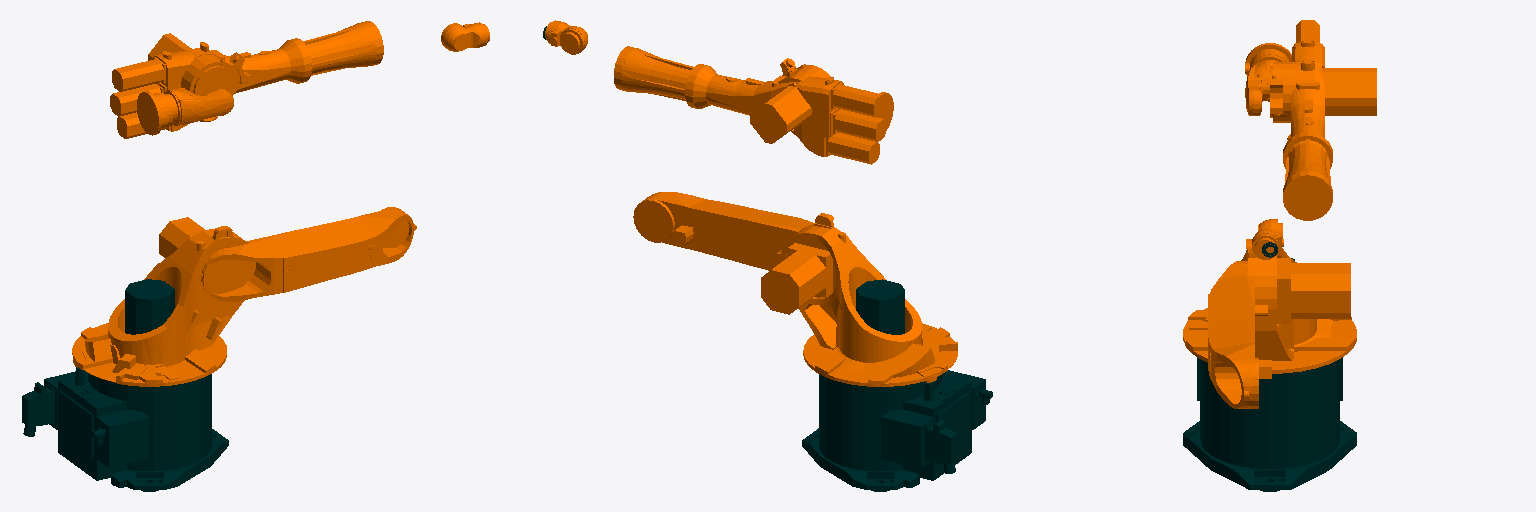
URDF robot description (kr16_l6):
<?xml version="1.0"?>
<robot name="kr16_l6">
  <link name="base_link">
    <inertial>
      <origin xyz="-0.0370802124265489 0.00141063646634188 0.216636327236744" rpy="0 0 0" />
      <mass value="74.2934066480815" />
      <inertia ixx="1.7670441021068" ixy="0.0322864027833848" ixz="-0.0124316820163097" iyy="2.14812775689737" iyz="-0.000118351466869729" izz="2.27331694976714" />
    </inertial>
    <visual>
      <origin xyz="0 0 0" rpy="0 0 0" />
      <geometry><mesh filename="../meshes/base_link.STL" /></geometry>
      <material name=""><color rgba="0 0.2 0.2 1" /></material>
    </visual>
    <collision>
      <origin xyz="0 0 0" rpy="0 0 0" />
      <geometry><mesh filename="../meshes/base_link.STL" /></geometry>
    </collision>
  </link>
  <link name="link_1">
    <inertial>
      <origin xyz="0.142305497750456 0.0226050566515005 0.567894773840482" rpy="0 0 0" />
      <mass value="21.6539975606358" />
      <inertia ixx="0.409776844897082" ixy="0.0305560931237029" ixz="-0.224923596404671" iyy="0.68302608239356" iyz="0.0194477729138504" izz="0.558909205843078" />
    </inertial>
    <visual>
      <origin xyz="0 0 0" rpy="0 0 0" />
      <geometry><mesh filename="../meshes/link_1.STL" /></geometry>
      <material name=""><color rgba="1 0.498039215686275 0 1" /></material>
    </visual>
    <collision>
      <origin xyz="0 0 0" rpy="0 0 0" />
      <geometry><mesh filename="../meshes/link_1.STL" /></geometry>
    </collision>
  </link>
  <joint name="joint_1" type="revolute">
    <origin xyz="0 0 0" rpy="0 0 0" />
    <parent link="base_link" />
    <child link="link_1" />
    <axis xyz="0 0 -1" />
    <limit lower="-3.228859" upper="3.228859" effort="300" velocity="3" />
    <dynamics damping="5.0" friction="5.0" />
  </joint>
  <link name="link_2">
    <inertial>
      <origin xyz="0 0 0.083" rpy="0 0 0" />
      <mass value="13.5187549094038" />
      <inertia ixx="0.595735874292518" ixy="-0.00033959208906011" ixz="0.000241341250717348" iyy="0.0592222368371793" iyz="-0.0264042602214632" izz="0.593909797905065" />
    </inertial>
    <visual>
      <origin xyz="0 0 0" rpy="0 0 -1.5707963267949" />
      <geometry><mesh filename="../meshes/link_2.STL" /></geometry>
      <material name=""><color rgba="1 0.498039215686275 0 1" /></material>
    </visual>
    <collision>
      <origin xyz="0 0 0.083" rpy="0 0 0" />
      <geometry><mesh filename="../meshes/link_2.STL" /></geometry>
    </collision>
  </link>
  <joint name="joint_2" type="revolute">
    <origin xyz="0.26 0 0.675" rpy="1.5707963267949 0 0" />
    <parent link="link_1" />
    <child link="link_2" />
    <axis xyz="0 0 -1" />
    <limit lower="-1.1344" upper="2.18166" effort="300" velocity="3" />
    <dynamics damping="5.0" friction="5.0" />
  </joint>
  <link name="link_3">
    <inertial>
      <origin xyz="0 0 0.083" rpy="0 0 0" />
      <mass value="20.1226848736683" />
      <inertia ixx="1.08899760672633" ixy="-0.0306219787461247" ixz="-0.00467363324796757" iyy="0.0760528892752689" iyz="-0.0339439600119559" izz="1.09970632098879" />
    </inertial>
    <visual>
      <origin xyz="0 0 0" rpy="0 0 0" />
      <geometry><mesh filename="../meshes/link_3.STL" /></geometry>
      <material name=""><color rgba="1 0.498039215686275 0 1" /></material>
    </visual>
    <collision>
      <origin xyz="0 0 0.117" rpy="0 0 0" />
      <geometry><mesh filename="../meshes/link_3.STL" /></geometry>
    </collision>
  </link>
  <joint name="joint_3" type="revolute">
    <origin xyz="0 0.68 0" rpy="0 0 1.5707963267949" />
    <parent link="link_2" />
    <child link="link_3" />
    <axis xyz="0 0 1" />
    <limit lower="-3.8397" upper="1.117" effort="300" velocity="3" />
    <dynamics damping="2.0" friction="2.0" />
  </joint>
  <link name="link_4">
    <inertial>
      <origin xyz="0 0 0" rpy="0 0 0" />
      <mass value="2.87297951118877" />
      <inertia ixx="0.0235654746306512" ixy="-1.48066908871915E-06" ixz="-6.74729709833719E-06" iyy="0.0215035781328367" iyz="-0.00134422869806709" izz="0.00666767944518143" />
    </inertial>
    <visual>
      <origin xyz="0 0 0" rpy="0 0 0" />
      <geometry><mesh filename="../meshes/link_4.STL" /></geometry>
      <material name=""><color rgba="1 0.498039215686275 0 1" /></material>
    </visual>
    <collision>
      <origin xyz="0 0 0.970" rpy="0 0 0" />
      <geometry><mesh filename="../meshes/link_4.STL" /></geometry>
    </collision>
  </link>
  <joint name="joint_4" type="revolute">
    <origin xyz="-0.035 0 0" rpy="1.5707963267949 0 0" />
    <parent link="link_3" />
    <child link="link_4" />
    <axis xyz="0 0 -1" />
    <limit lower="-6.1086" upper="6.1086" effort="300" velocity="3" />
    <dynamics damping="1.0" friction="1.0" />
  </joint>
  <link name="link_5">
    <inertial>
      <origin xyz="0 0 0" rpy="0 0 0" />
      <mass value="0.808099153279393" />
      <inertia ixx="0.00178549408930983" ixy="1.15601664319987E-11" ixz="-1.64520814420352E-11" iyy="0.000760250254168187" iyz="0.000203502588831681" izz="0.00176861762533441" />
    </inertial>
    <visual>
      <origin xyz="0 0 0" rpy="0 0 0" />
      <geometry><mesh filename="../meshes/link_5.STL" /></geometry>
      <material name=""><color rgba="1 0.498039215686275 0 1" /></material>
    </visual>
    <collision>
      <origin xyz="0 0 -0.014" rpy="0 0 0" />
      <geometry><mesh filename="../meshes/link_5.STL" /></geometry>
    </collision>
  </link>
  <joint name="joint_5" type="revolute">
    <origin xyz="0 0 0.970" rpy="-1.5707963267949 0 0" />
    <parent link="link_4" />
    <child link="link_5" />
    <axis xyz="0 0 -1" />
    <limit lower="-2.268" upper="2.268" effort="300" velocity="3" />
    <dynamics damping="0.5" friction="0.5" />
  </joint>
  <link name="link_6">
    <inertial>
      <origin xyz="0 0.014 0" rpy="1.57079632679 0 0" />
      <mass value="0.008033452510818" />
      <inertia ixx="1.65232786199386E-06" ixy="2.91558290222439E-23" ixz="-9.6668283756098E-24" iyy="1.51208716593763E-06" iyz="1.88515043366526E-27" izz="3.11335648098606E-06" />
    </inertial>
    <visual>
      <origin xyz="0 0 0" rpy="0 0 0" />
      <geometry><mesh filename="../meshes/link_6.STL" /></geometry>
      <material name=""><color rgba="0 0.2 0.2 1" /></material>
    </visual>
    <collision>
      <origin xyz="0 0 0" rpy="0 0 0" />
      <geometry><mesh filename="../meshes/link_6.STL" /></geometry>
    </collision>
  </link>
  <joint name="joint_6" type="revolute">
    <origin xyz="0 0 0" rpy="1.5707963267949 0 0" />
    <parent link="link_5" />
    <child link="link_6" />
    <axis xyz="0 0 -1" />
    <limit lower="-6.1086" upper="6.1086" effort="300" velocity="3" />
    <dynamics damping="0.1" friction="0.1" />
  </joint>
</robot>

--- Facts derived from the render (not from the file) ---
The picture shows the robot from 3 angles, left to right: view 1: azimuth 30°, elevation 25°; view 2: azimuth 150°, elevation 25°; view 3: azimuth 270°, elevation 25°; orthographic projection.
Robot: kr16_l6 — 7 links, 6 joints (6 revolute); root link base_link; default pose: every joint at zero.
Links seen in each view (by area): view 1: base_link, link_1, link_3, link_2, link_4, link_5; view 2: base_link, link_1, link_3, link_2, link_5; view 3: base_link, link_1, link_3, link_2, link_4, link_5.
Boxes of the visible links, bbox=[...] form: base_link: bbox=[22, 279, 228, 491]; link_1: bbox=[72, 217, 255, 386]; link_3: bbox=[110, 21, 383, 138]; link_2: bbox=[201, 207, 416, 301]; link_4: bbox=[137, 88, 233, 135]; link_5: bbox=[441, 22, 489, 51]; base_link: bbox=[802, 279, 992, 491]; link_1: bbox=[761, 213, 957, 386]; link_3: bbox=[614, 46, 885, 164]; link_2: bbox=[633, 192, 813, 270]; link_5: bbox=[545, 20, 587, 54]; base_link: bbox=[1183, 258, 1356, 491]; link_1: bbox=[1183, 239, 1356, 373]; link_3: bbox=[1270, 20, 1376, 220]; link_2: bbox=[1208, 261, 1271, 408]; link_4: bbox=[1245, 43, 1291, 115]; link_5: bbox=[1252, 219, 1283, 259].
Size in the robot's own frame: 1.75 by 0.5988 by 1.47 metres.
Meshes: 7 distinct files referenced, 7 mesh visuals loaded (7 binary STL).
